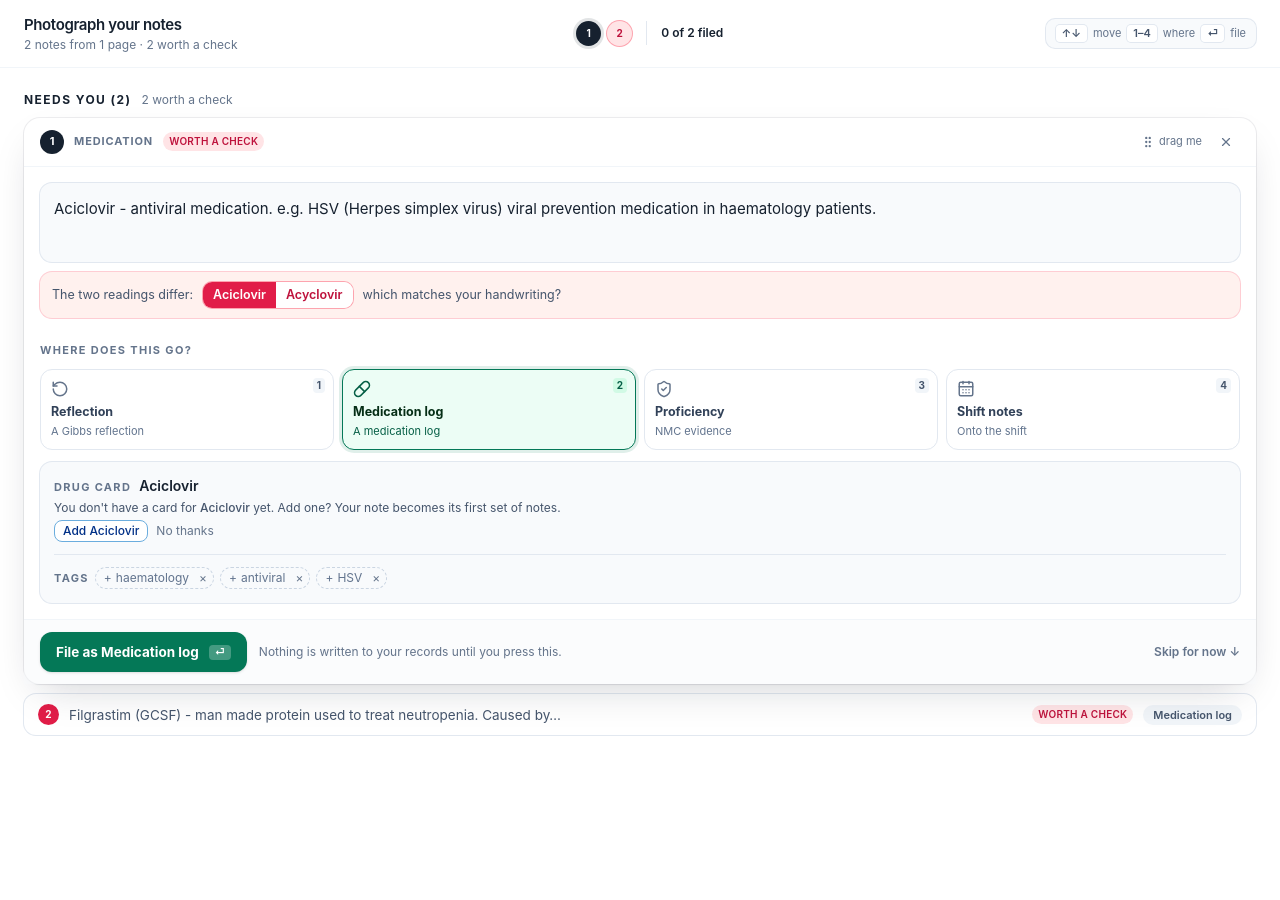
Scenario: ReviewPanel — the notes themselves › shows BOTH readings of every disputed word (P22)
Expected: the button "Aciclovir" is shown, x1=203 y1=282 x2=276 y2=308
Expected: the button "Acyclovir" is shown, x1=276 y1=282 x2=353 y2=308
Click the button "2": coordinates (620, 33) x1=607 y1=21 x2=632 y2=46
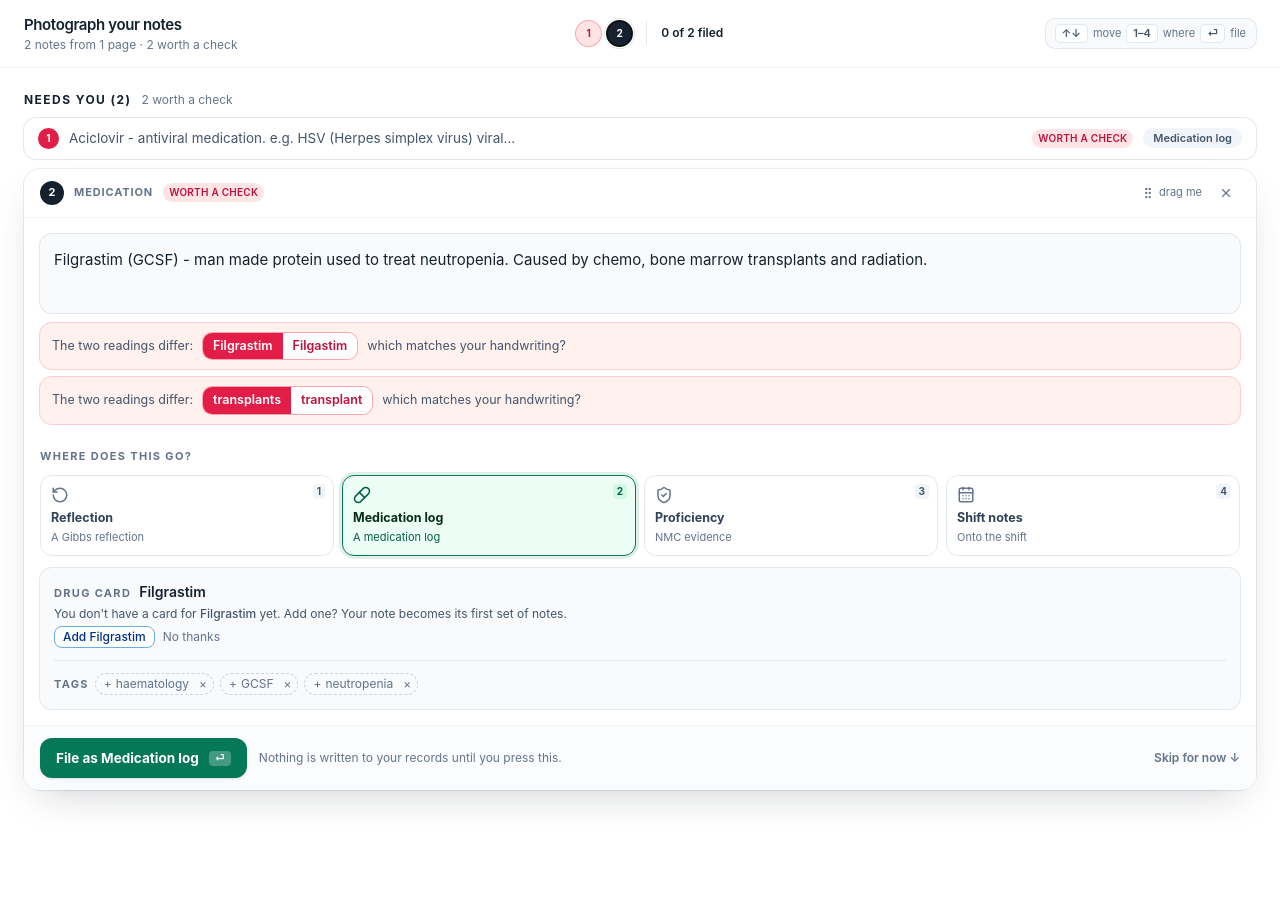
Result: the button "Filgrastim" is shown at x1=203 y1=332 x2=282 y2=359
Result: the button "Filgastim" is shown at x1=282 y1=332 x2=357 y2=359
Result: the button "transplants" is shown at x1=203 y1=387 x2=291 y2=414
